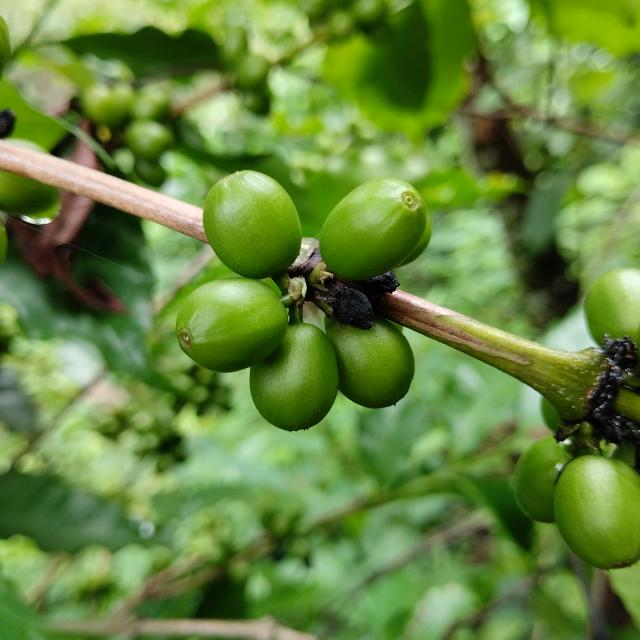green: (319, 177, 427, 280), (203, 170, 302, 279), (175, 277, 288, 372), (250, 320, 339, 431), (555, 456, 640, 570), (325, 315, 415, 409), (514, 436, 573, 523), (585, 268, 640, 345), (398, 215, 433, 267)
